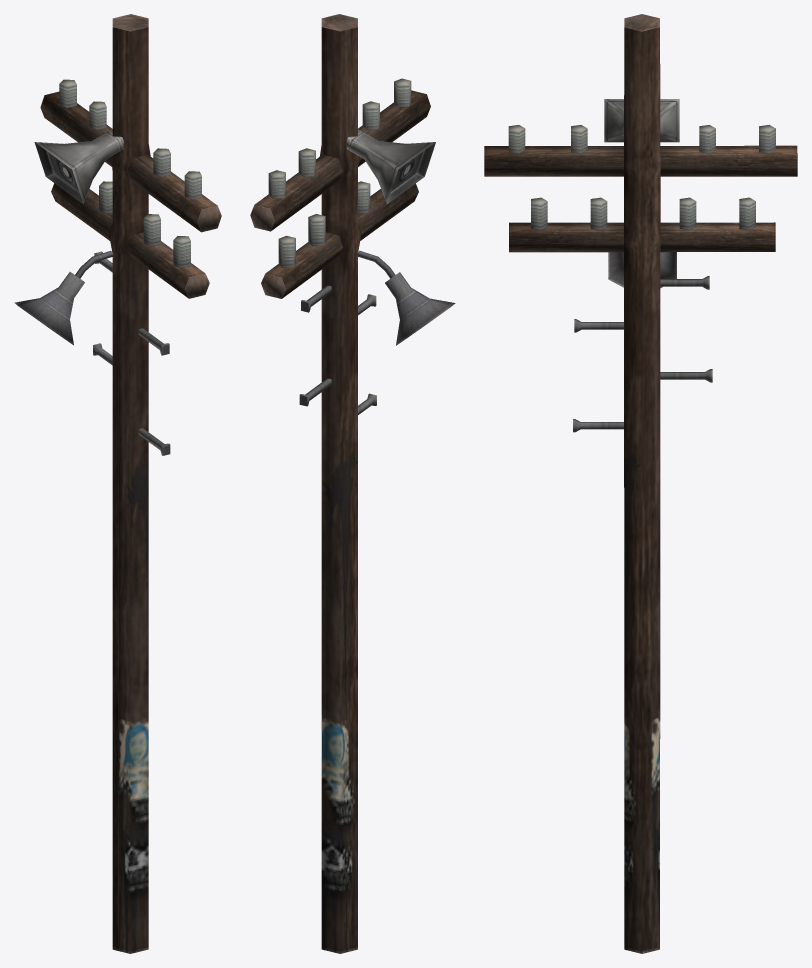
Rendered from junsimju2.FBX.
The picture shows the model from 3 angles, left to right: view 1: azimuth 30°, elevation 25°; view 2: azimuth 150°, elevation 25°; view 3: azimuth 270°, elevation 25°; orthographic projection.
Parts seen in each view (by area): view 1: Cylinder003; view 2: Cylinder003; view 3: Cylinder003.
Boxes of the visible parts, <box> form: Cylinder003: <box>14,14,221,953</box>; Cylinder003: <box>250,14,455,953</box>; Cylinder003: <box>484,14,797,953</box>.
Bounding box in the file's own units: 35.31 × 239 × 73.6.
Materials: 1 (1 with a texture image).
